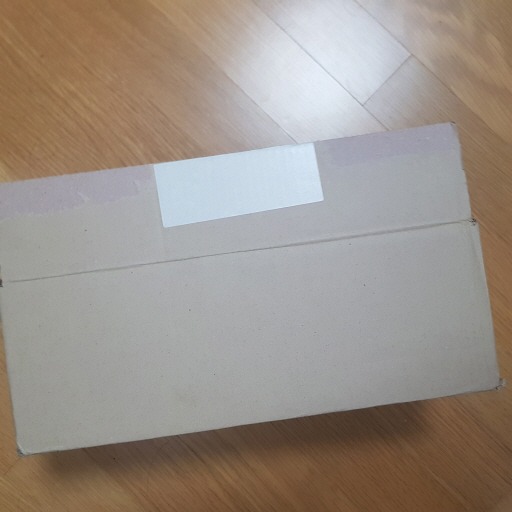Paper_0: (1, 124, 508, 464)
